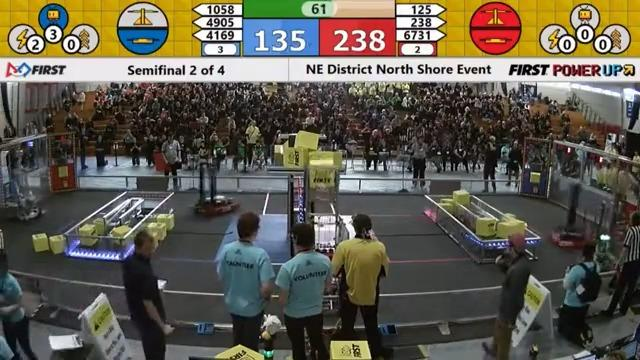robot: (299, 160, 347, 297), (580, 200, 629, 279), (2, 149, 51, 226), (548, 179, 596, 252), (193, 161, 243, 219)
